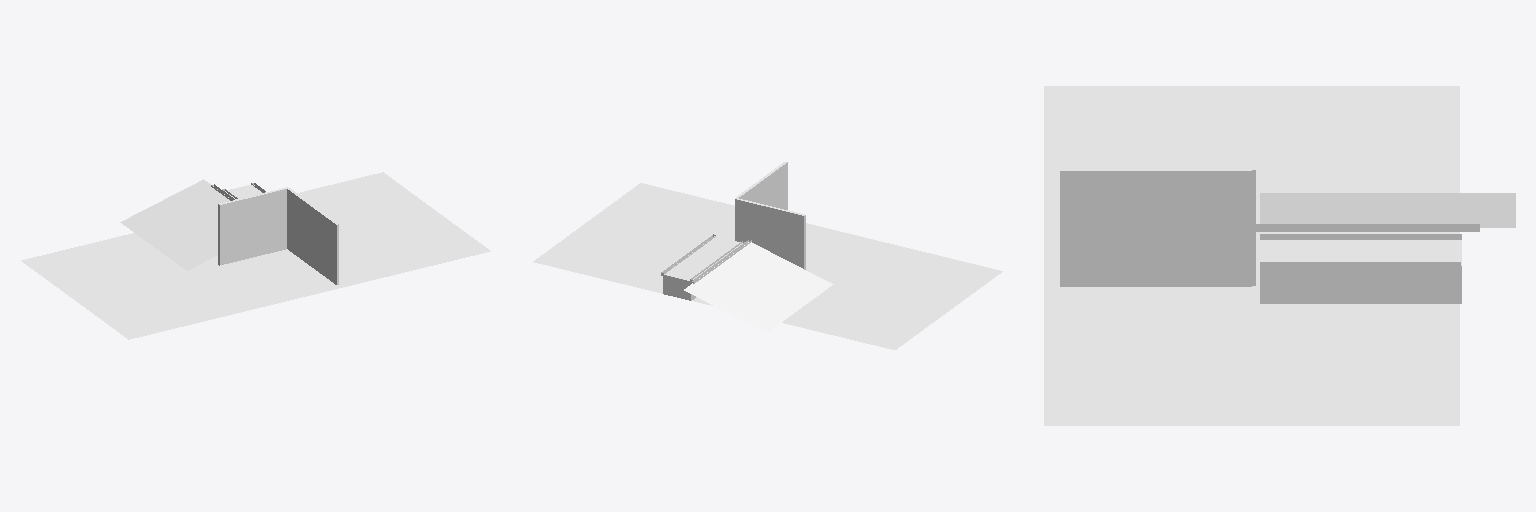
URDF robot description (chair):
<robot name="chair">
  <link name="base_link">
    <visual>
      <origin xyz="0 0 0" rpy="0 0 0" />
      <geometry>
        <mesh filename="package://hpp_environments/meshes/ori/slalom2.stl"/>
      </geometry>
      <material name="white">
        <color rgba="1 1 1 1"/>
      </material>
    </visual>
    <collision>
      <origin xyz="0 0 0" rpy="0 0 0" />
      <geometry>
        <mesh filename="package://hpp_environments/meshes/ori/slalom2.stl"/>
      </geometry>
    </collision>
  </link>
</robot>

--- What the picture shows (computed from the rendered views, not written in the file) ---
The picture shows the robot from 3 angles, left to right: view 1: azimuth 30°, elevation 25°; view 2: azimuth 150°, elevation 25°; view 3: azimuth 270°, elevation 25°; orthographic projection.
Model chair with 1 links and 0 joints (none), rooted at base_link, posed every joint at zero.
Visible links, largest first — view 1: base_link; view 2: base_link; view 3: base_link.
Boxes of the visible links, x1=… form: base_link: x1=21, y1=172, x2=490, y2=339; base_link: x1=533, y1=162, x2=1002, y2=349; base_link: x1=1044, y1=86, x2=1515, y2=425.
Bounding box of the posed robot: 2.52 × 1.47 × 0.413 m (x, y, z).
1 mesh visuals loaded from 1 distinct referenced files (1 binary STL).
